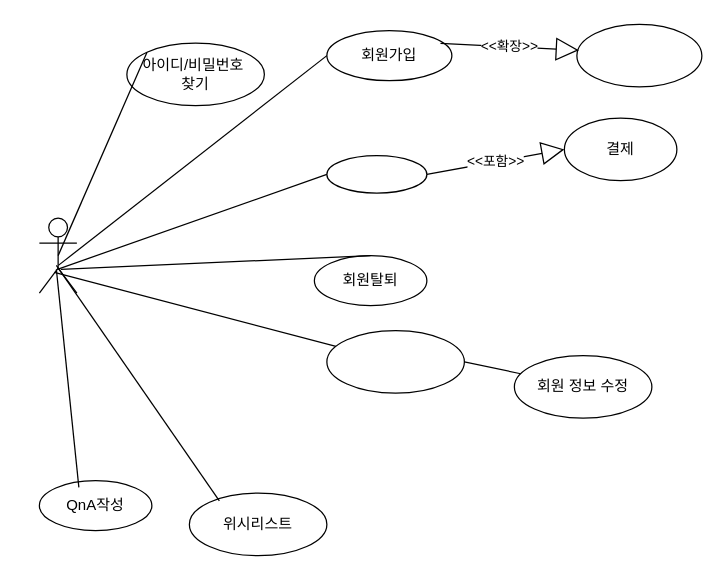
Some shapes in this 724 by 578 pixel diagram are drawn without their labels. The shapes that lost their labels are listed below. From the top down, each one's centre as x and y in pixels, then its label:
At (639,55): "이메일 인증".
At (376,173): "상품 주문".
At (57,255): "일반 사용자".
At (395,361): "마이페이지".
